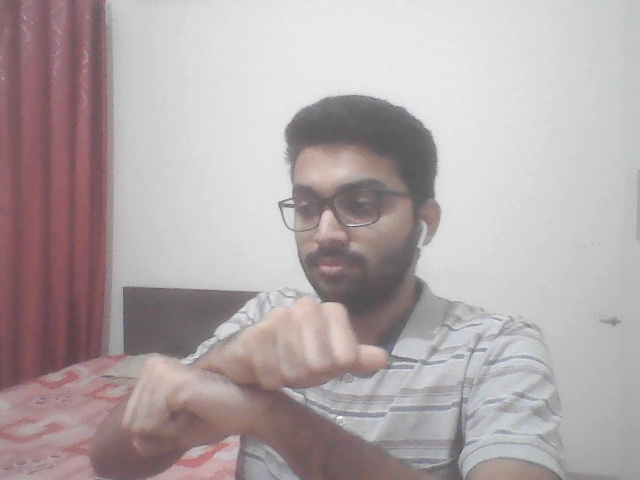work: (89, 301, 410, 456)
